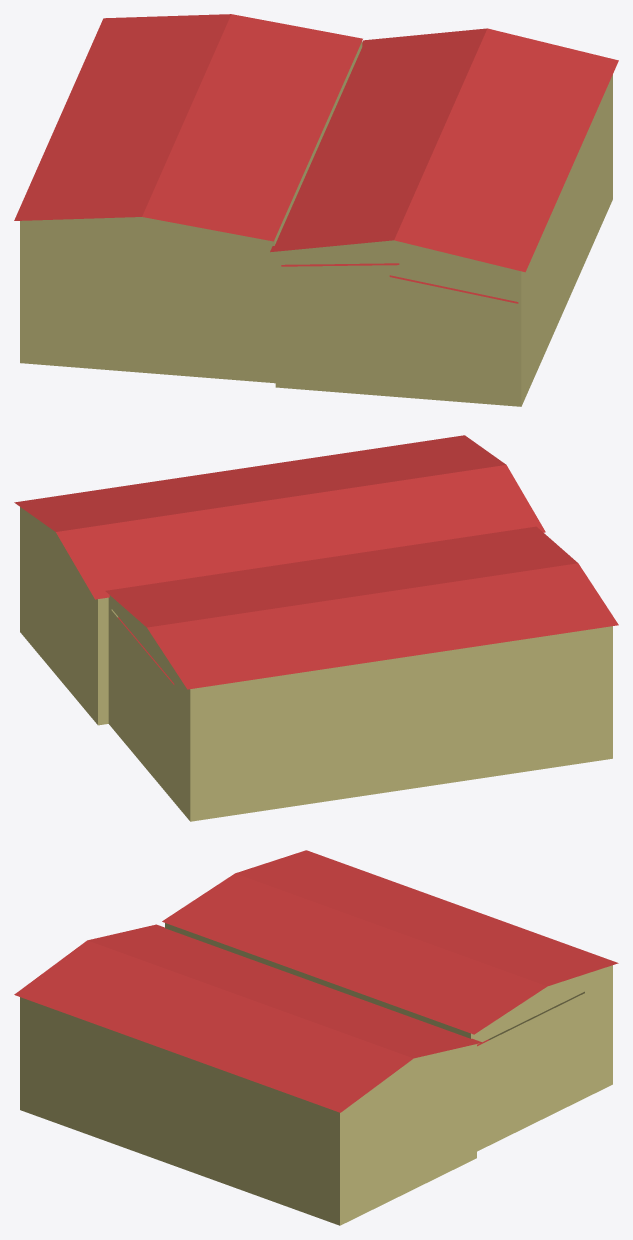
The picture shows the model from 3 angles, top to bottom: view 1: azimuth 30°, elevation 25°; view 2: azimuth 150°, elevation 25°; view 3: azimuth 270°, elevation 25°; orthographic projection. The views are drawn at different scales.
Size of the model in its own units: 35.6 by 35.41 by 8.63.
